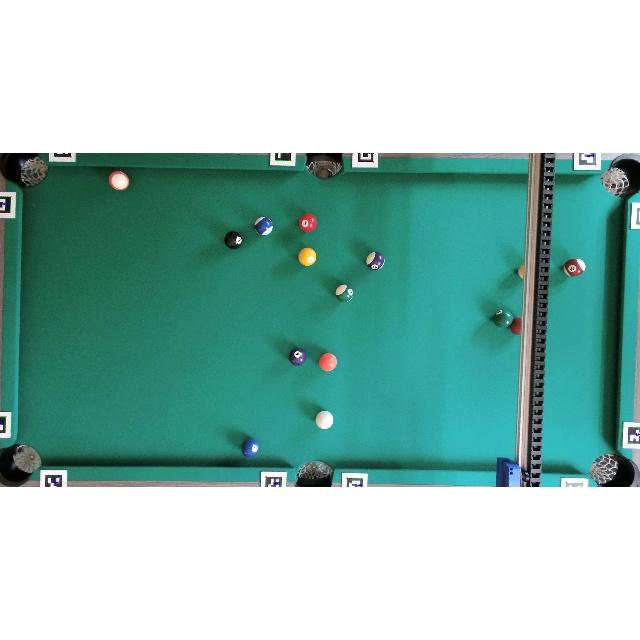cue ball: (316, 411, 334, 429)
other: (492, 308, 514, 328), (564, 258, 586, 277), (108, 171, 130, 190), (254, 216, 274, 236), (318, 353, 338, 371), (298, 248, 317, 266), (299, 213, 317, 232), (366, 252, 385, 270), (242, 438, 260, 457), (289, 348, 307, 366), (336, 284, 354, 302), (225, 231, 243, 249), (509, 318, 522, 334)
